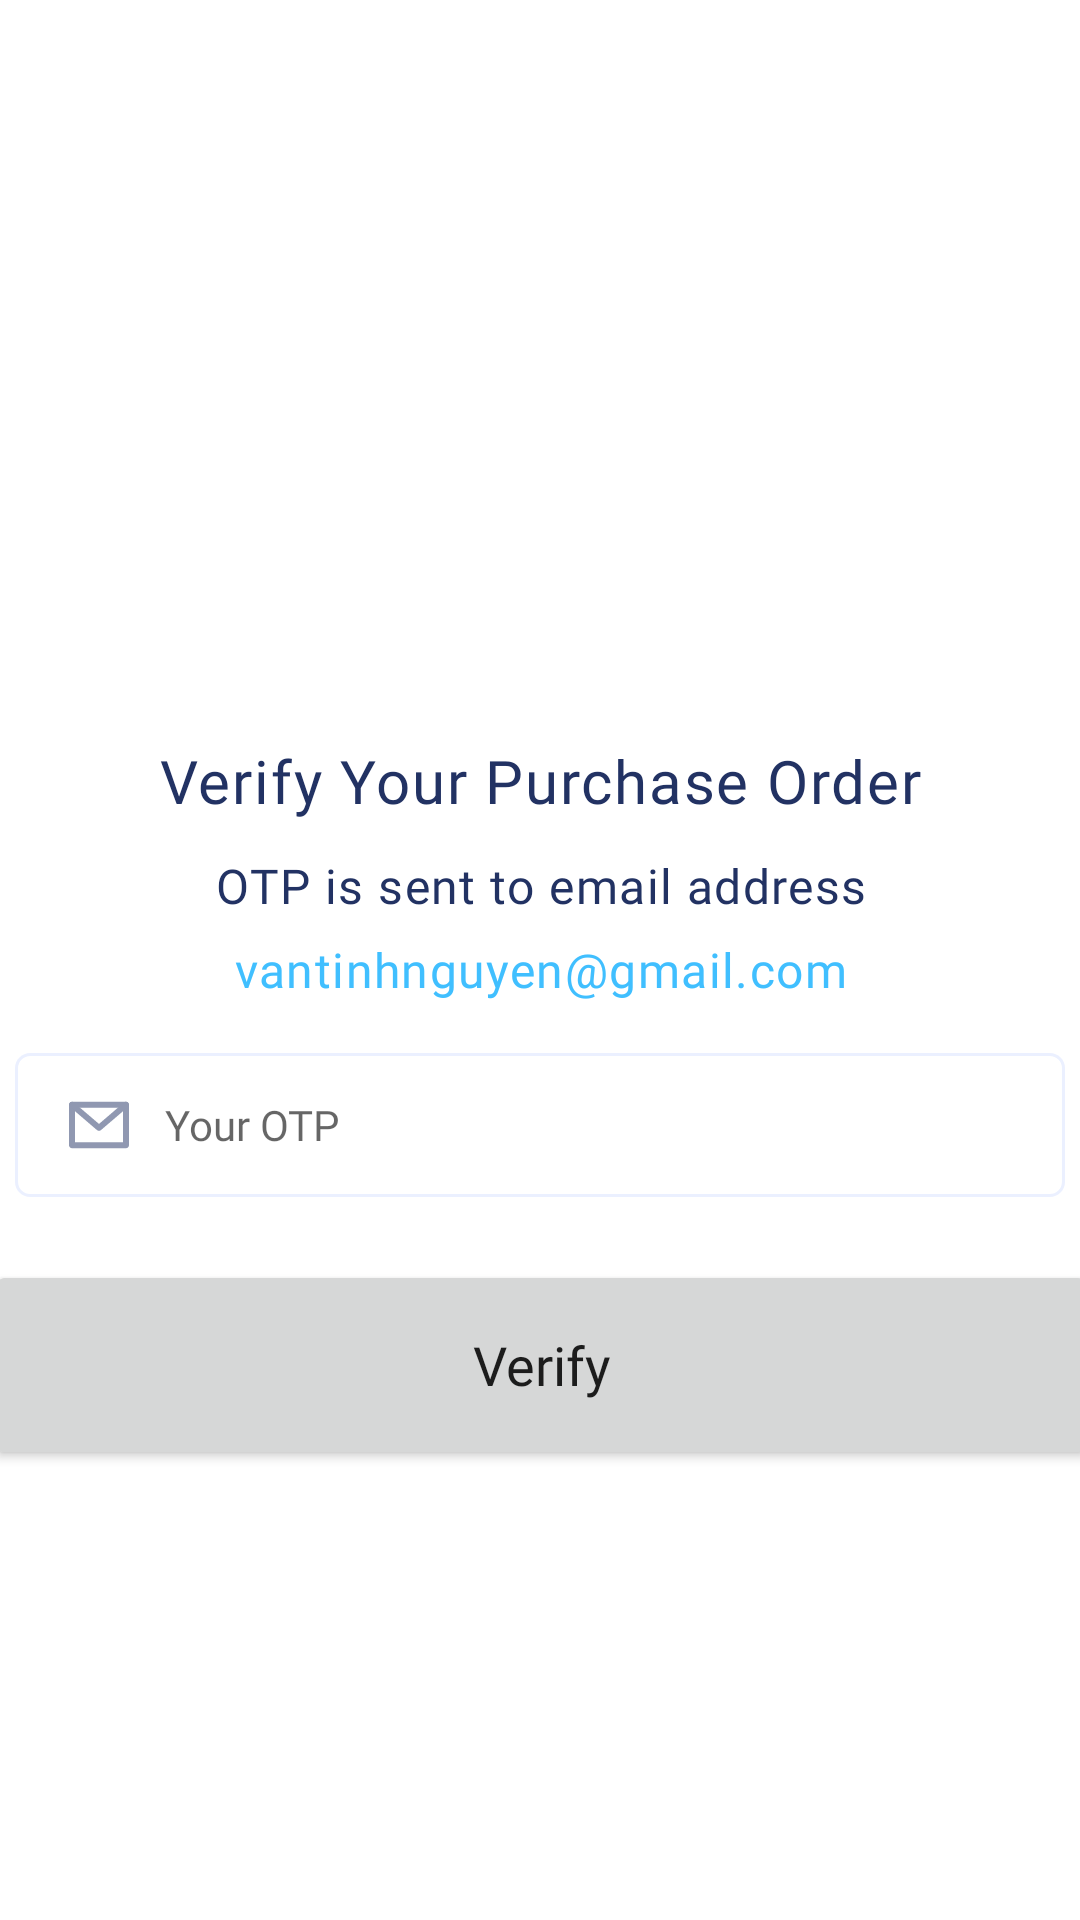

Icon bounding boxes for this 1080w x 1920h phone screenshot, format [x1,y1,x2,y2]:
message: [69,1101,129,1149]
